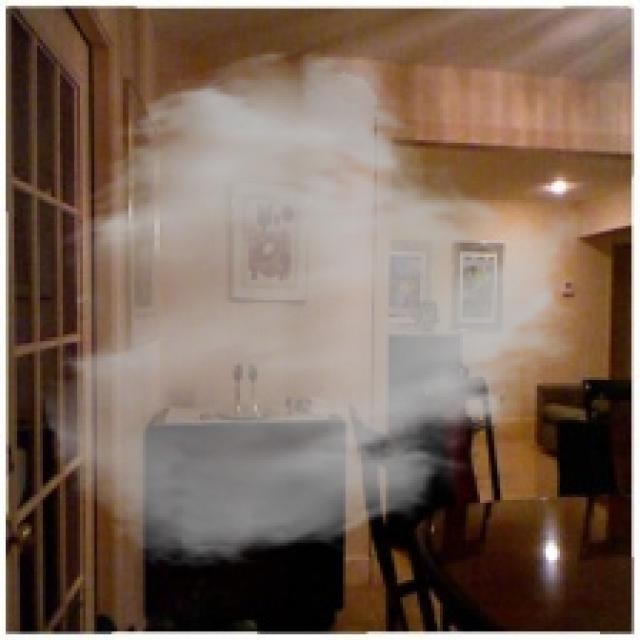smoke: (40, 46, 594, 571)
